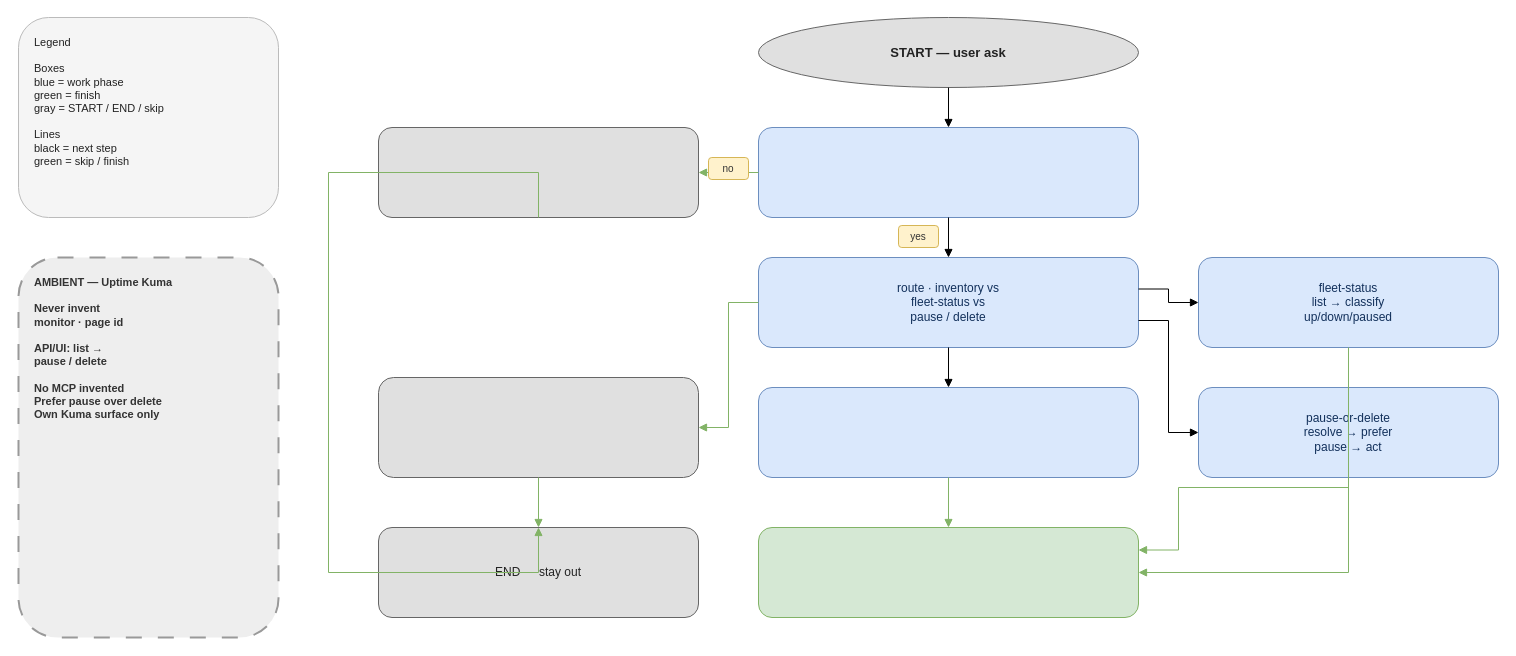
This 1516x656 diagram has some shape labels left out. Here are the shapes that lost their labels. From the top down, the centre of each, then its label:
At point 538,172: "skip — no Kuma surface this turn".
At point 948,172: "gate · Uptime Kuma? monitor / status page named?".
At point 538,427: "refuse / gate mutate no verb · no ids (uptime-kuma-safety)".
At point 948,432: "inventory list → id + name + status".
At point 948,572: "END — id + name + status / receipt".
